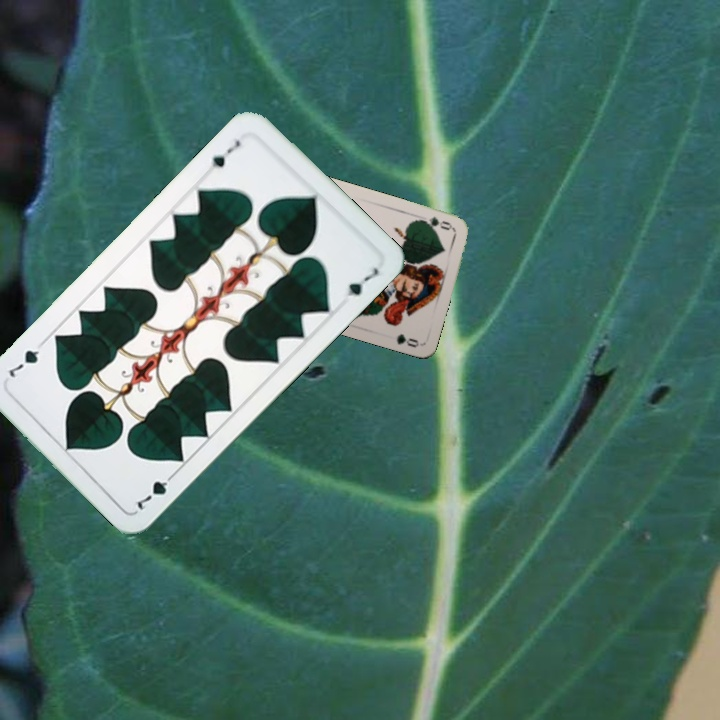G7: (131, 467, 180, 513), (207, 135, 243, 171)
GO: (415, 212, 455, 233)
